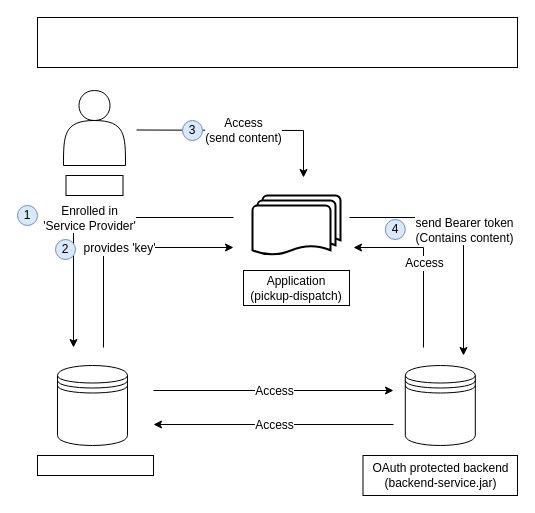
This 535x513 diagram has some shape labels left out. Here are the shapes that lost their labels. From the top down, the box of each, then its label:
(36, 16, 518, 68): Acc ess Delegation – Oauth 2.0 (in WSO2 IS 5.11.0)
(65, 174, 123, 196): User
(36, 454, 154, 476): WSO2 IS
